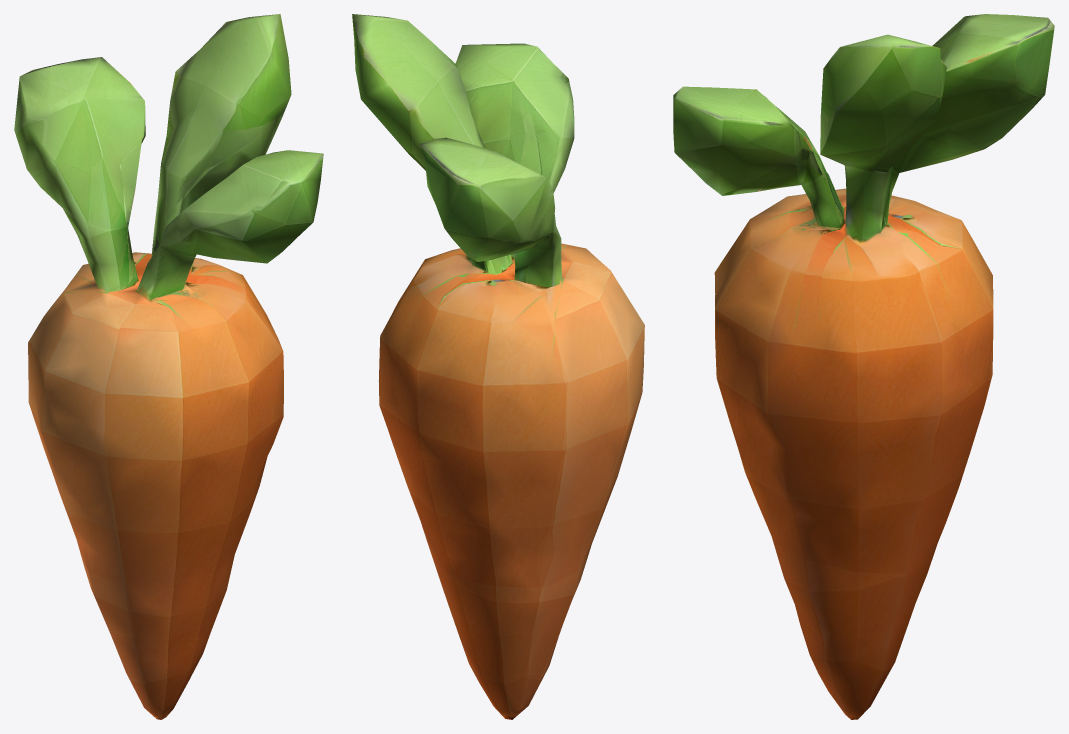
The model's file is Carrot.fbx.
The picture shows the model from 3 angles, left to right: view 1: azimuth 30°, elevation 25°; view 2: azimuth 150°, elevation 25°; view 3: azimuth 270°, elevation 25°; orthographic projection. The views are drawn at different scales.
Visible parts, largest first — view 1: texture_mapping; view 2: texture_mapping; view 3: texture_mapping.
Part boxes in pixels (x1=…): texture_mapping: x1=14, y1=14, x2=323, y2=719; texture_mapping: x1=352, y1=14, x2=644, y2=719; texture_mapping: x1=673, y1=14, x2=1054, y2=719.
Bounding box in the file's own units: 0.401 × 0.4638 × 1.
1 material, 1 textured.
